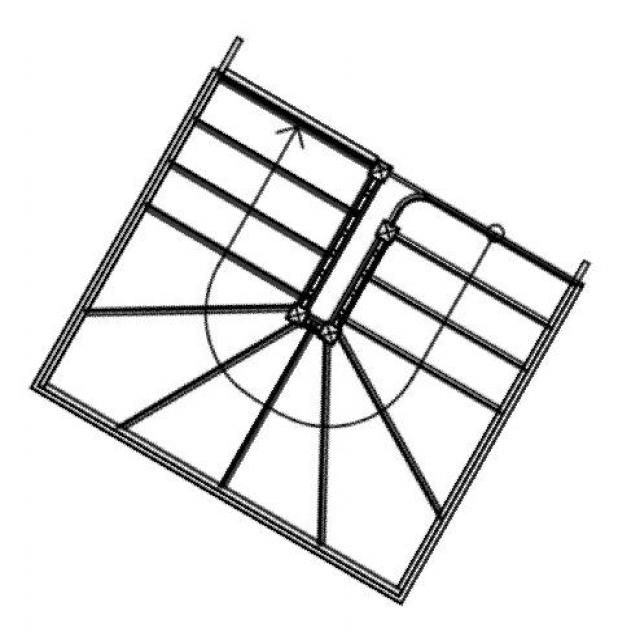stair: (24, 33, 590, 607)
